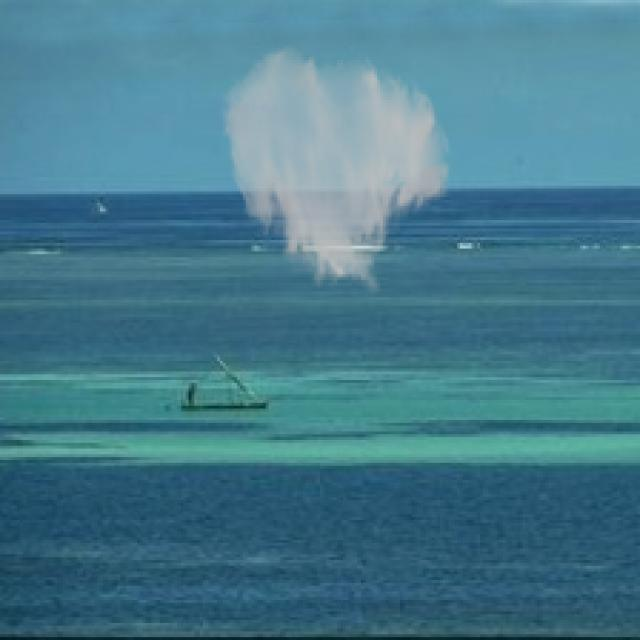Smoke: (220, 42, 454, 298)
